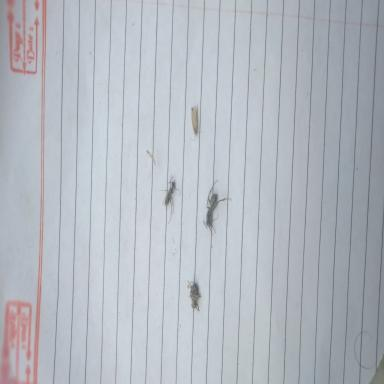pbw: (190, 103, 203, 140)
